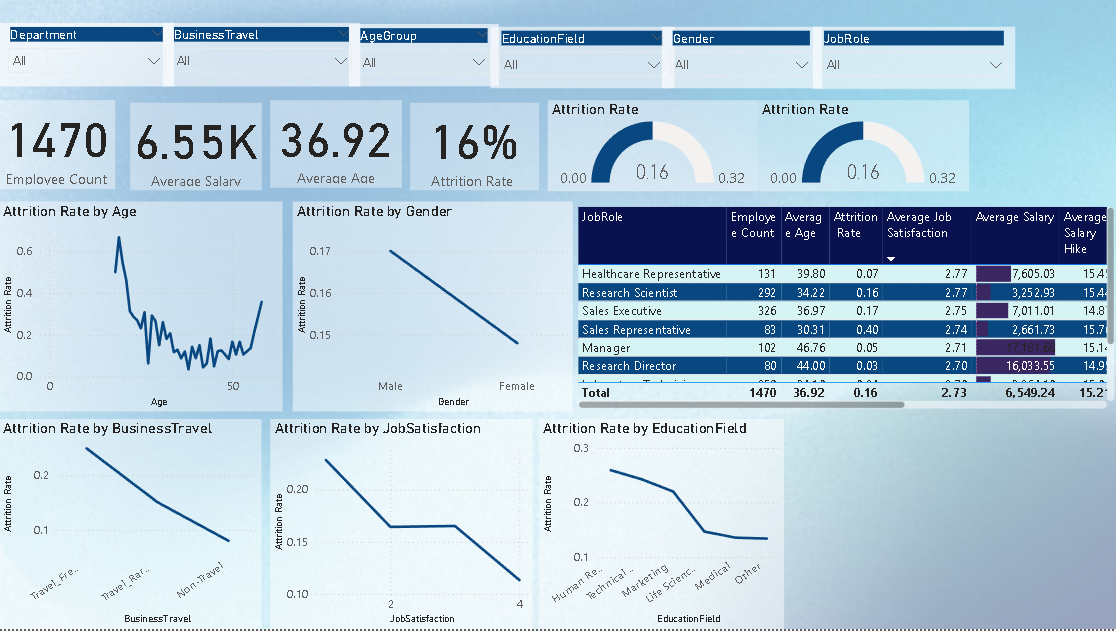

This screenshot's page, from the dashboard's own definition file:
{"tool":"powerbi","page":{"name":"Page 2","canvas":[1280,720],"ordinal":1},"visuals":[{"type":"lineChart","fields":{"Y":["HR_Analytics.Attrition Rate "],"Category":["HR_Analytics.EducationField"]},"box":[617.5,480,280,240],"z":0},{"type":"lineChart","fields":{"Y":["HR_Analytics.Attrition Rate "],"Category":["HR_Analytics.JobSatisfaction"]},"box":[310,480,300,240],"z":1000},{"type":"lineChart","fields":{"Category":["HR_Analytics.BusinessTravel"],"Y":["HR_Analytics.Attrition Rate "]},"box":[0,480,300,240],"z":2000},{"type":"lineChart","fields":{"Y":["HR_Analytics.Attrition Rate "],"Category":["HR_Analytics.Age"]},"box":[0,231.2,323.8,240],"z":3000},{"type":"lineChart","fields":{"Y":["HR_Analytics.Attrition Rate "],"Category":["HR_Analytics.Gender"]},"box":[336.2,231.2,320,240],"z":4000},{"type":"tableEx","fields":{"Values":["HR_Analytics.JobRole","HR_Analytics.Employee Count","HR_Analytics.Average Age","HR_Analytics.Attrition Rate ","HR_Analytics.Average Job Satisfaction","HR_Analytics.Average Salary","HR_Analytics.Average Salary Hike","HR_Analytics.Gender Ratio","HR_Analytics.OverTime %","HR_Analytics.Average Years","HR_Analytics.Attrition Count"]},"box":[656,233,624.3,240],"z":5000},{"type":"card","fields":{"Values":["HR_Analytics.Employee Count"]},"box":[0,115.7,132.9,101.4],"z":6000},{"type":"card","fields":{"Values":["HR_Analytics.Average Salary"]},"box":[150,118.6,150,100],"z":7000},{"type":"card","fields":{"Values":["HR_Analytics.Average Age"]},"box":[310,115.7,150,100],"z":8000},{"type":"card","fields":{"Values":["HR_Analytics.Attrition Rate "]},"box":[470,118.6,147.1,100],"z":9000},{"type":"gauge","fields":{"Y":["HR_Analytics.Attrition Rate "]},"box":[627.1,115.7,240,104.3],"z":10000},{"type":"gauge","fields":{"Y":["HR_Analytics.Attrition Rate "]},"box":[867.1,115.7,241.4,104.3],"z":11000},{"type":"slicer","fields":{"Values":["HR_Analytics.AgeGroup"]},"box":[400,28.6,171.4,71.4],"z":12000},{"type":"slicer","fields":{"Values":["HR_Analytics.BusinessTravel"]},"box":[187.1,27.1,225.7,72.9],"z":13000},{"type":"slicer","fields":{"Values":["HR_Analytics.Department"]},"box":[0,27.1,200,72.9],"z":14000},{"type":"slicer","fields":{"Values":["HR_Analytics.EducationField"]},"box":[561.4,31.4,210,70],"z":15000},{"type":"slicer","fields":{"Values":["HR_Analytics.Gender"]},"box":[757.1,31.4,182.9,70],"z":16000},{"type":"slicer","fields":{"Values":["HR_Analytics.JobRole"]},"box":[930,31.4,231.4,71.4],"z":17000}]}

Visuals, with their boxes in screenshot pixels (x1, y1, x2, y2), scaled from the page's 1280x720 canvas onto the 1116x632 screenshot:
lineChart - HR_Analytics.Attrition Rate  x HR_Analytics.EducationField: box=[538, 421, 783, 631]
lineChart - HR_Analytics.Attrition Rate  x HR_Analytics.JobSatisfaction: box=[270, 421, 532, 631]
lineChart - HR_Analytics.BusinessTravel x HR_Analytics.Attrition Rate : box=[0, 421, 262, 631]
lineChart - HR_Analytics.Attrition Rate  x HR_Analytics.Age: box=[0, 203, 282, 414]
lineChart - HR_Analytics.Attrition Rate  x HR_Analytics.Gender: box=[293, 203, 572, 414]
tableEx - HR_Analytics.JobRole x HR_Analytics.Employee Count: box=[572, 205, 1115, 415]
card - HR_Analytics.Employee Count: box=[0, 102, 116, 191]
card - HR_Analytics.Average Salary: box=[131, 104, 262, 192]
card - HR_Analytics.Average Age: box=[270, 102, 401, 189]
card - HR_Analytics.Attrition Rate : box=[410, 104, 538, 192]
gauge - HR_Analytics.Attrition Rate : box=[547, 102, 756, 193]
gauge - HR_Analytics.Attrition Rate : box=[756, 102, 966, 193]
slicer - HR_Analytics.AgeGroup: box=[349, 25, 498, 88]
slicer - HR_Analytics.BusinessTravel: box=[163, 24, 360, 88]
slicer - HR_Analytics.Department: box=[0, 24, 174, 88]
slicer - HR_Analytics.EducationField: box=[489, 28, 673, 89]
slicer - HR_Analytics.Gender: box=[660, 28, 820, 89]
slicer - HR_Analytics.JobRole: box=[811, 28, 1013, 90]
